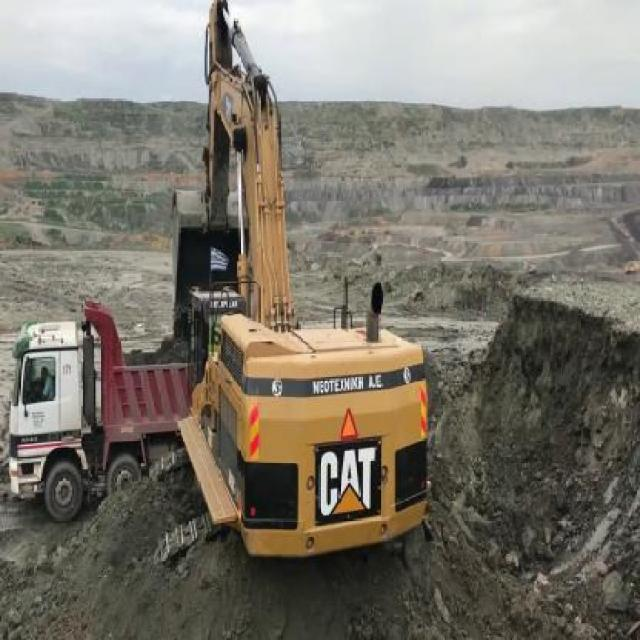Dump Truck: (7, 300, 168, 514)
Excavator: (170, 0, 453, 572)
